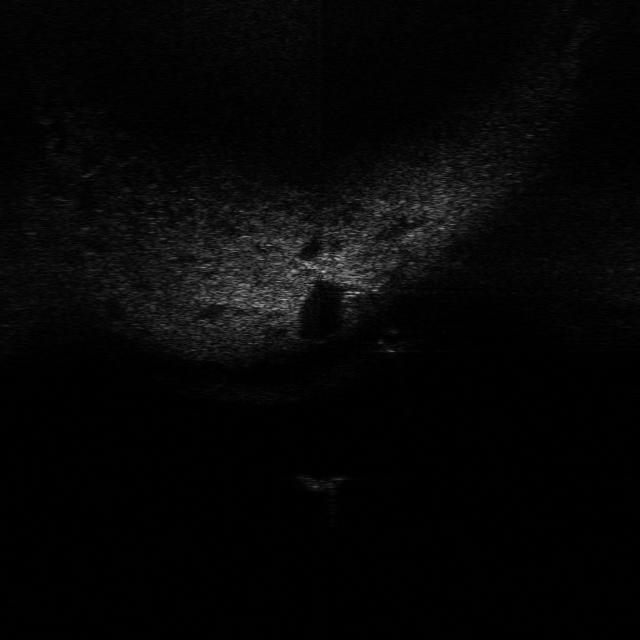ball: (372, 324, 413, 354)
cube: (291, 468, 347, 495)
